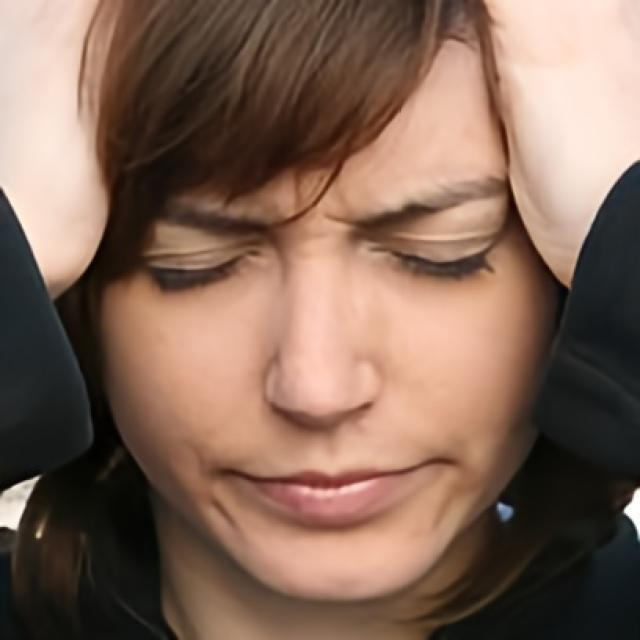sad: (94, 0, 560, 600)
